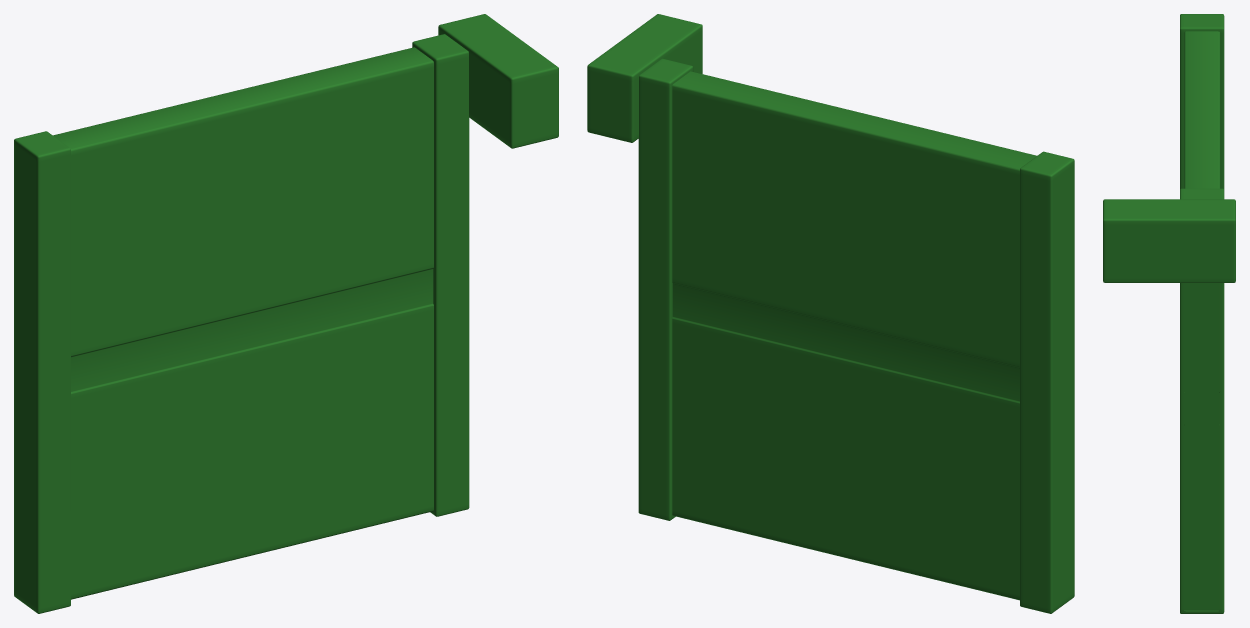
Rendered from SM_Drawer_Divider_04.fbx.
The picture shows the model from 3 angles, left to right: view 1: azimuth 30°, elevation 25°; view 2: azimuth 150°, elevation 25°; view 3: azimuth 270°, elevation 25°; orthographic projection. The views are drawn at different scales.
Visible parts, largest first — view 1: SM_Drawer_Divider_04; view 2: SM_Drawer_Divider_04; view 3: SM_Drawer_Divider_04.
Part boxes in pixels (x1,y1,x2,y2): SM_Drawer_Divider_04: (14,14,558,613); SM_Drawer_Divider_04: (587,14,1074,613); SM_Drawer_Divider_04: (1103,14,1235,613).
Bounding box in the file's own units: 13.79 × 12.72 × 3.68.
